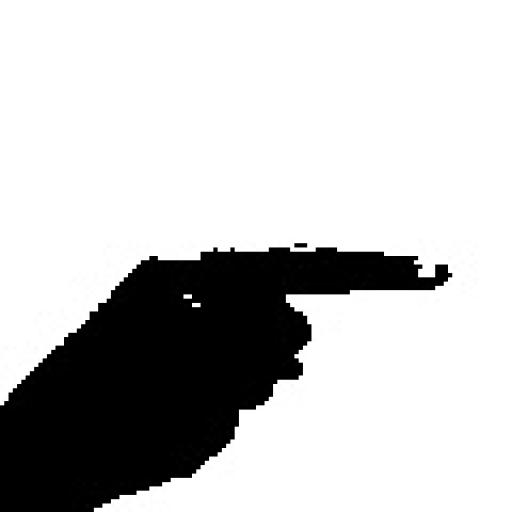index_right: (0, 240, 454, 458)
